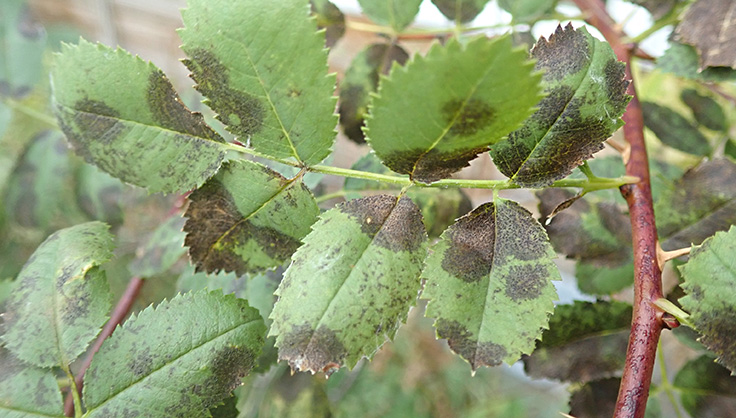unhealthy: (56, 46, 234, 231), (273, 199, 412, 376), (430, 206, 573, 369)
